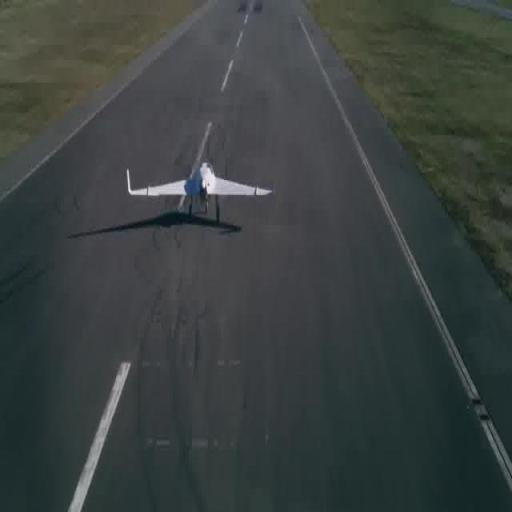uav: (124, 153, 280, 229)
